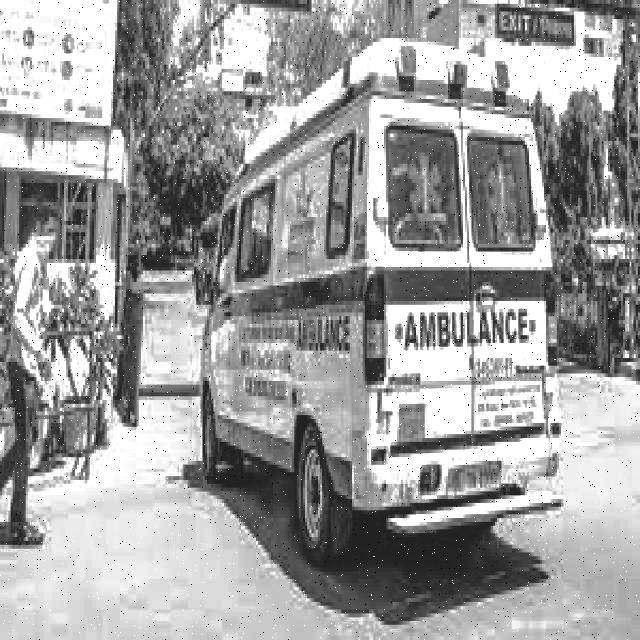LCV: (360, 40, 560, 521)
